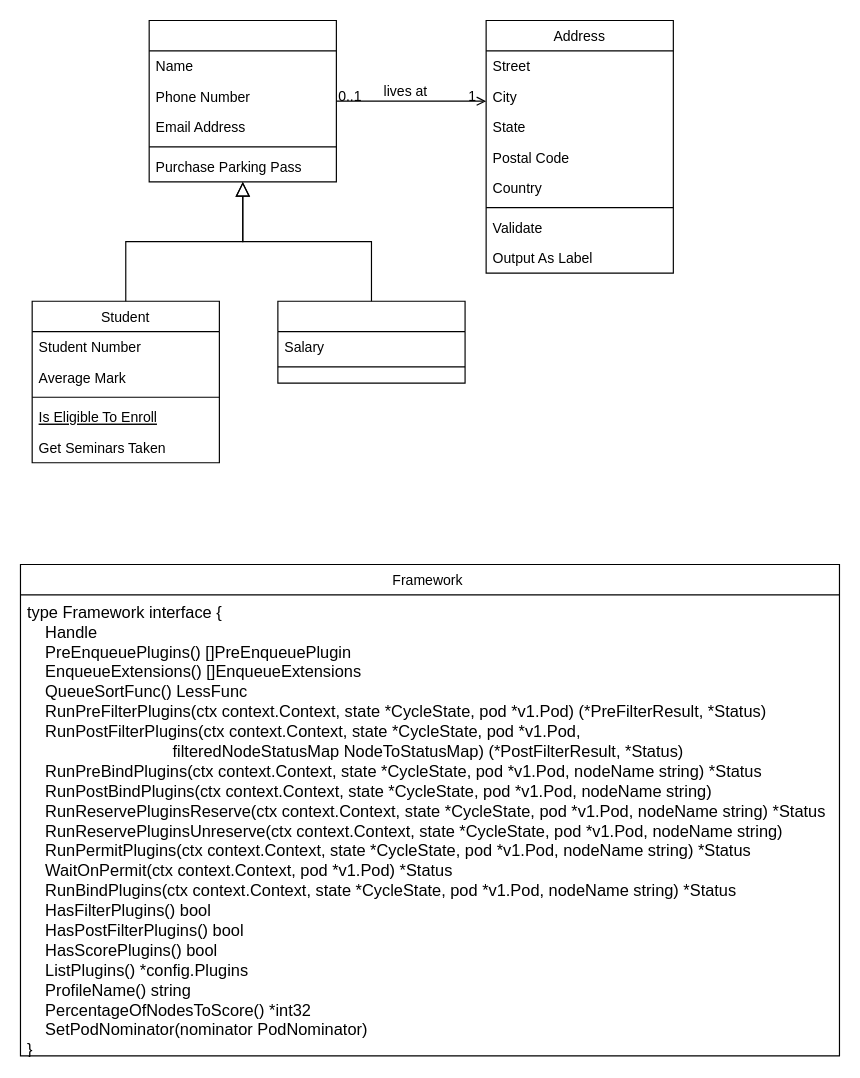
Image size: 860x1078. Some labels were removed from this diagram. Each missing label, with the box of its shape:
Person: (148, 19, 336, 182)
Professor: (277, 300, 465, 383)
